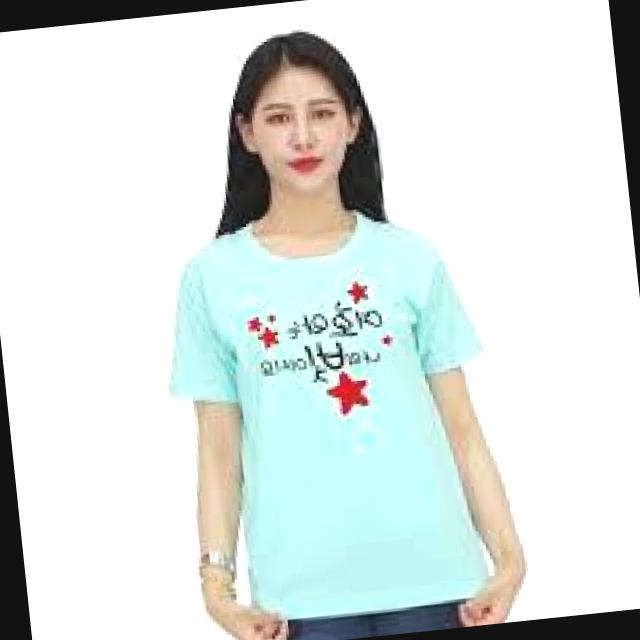Tshirt: (145, 192, 531, 640)
